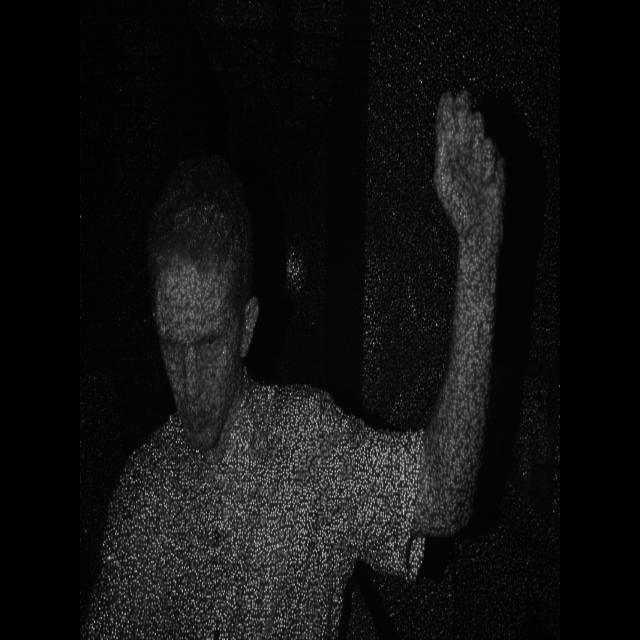N: (427, 71, 513, 251)
